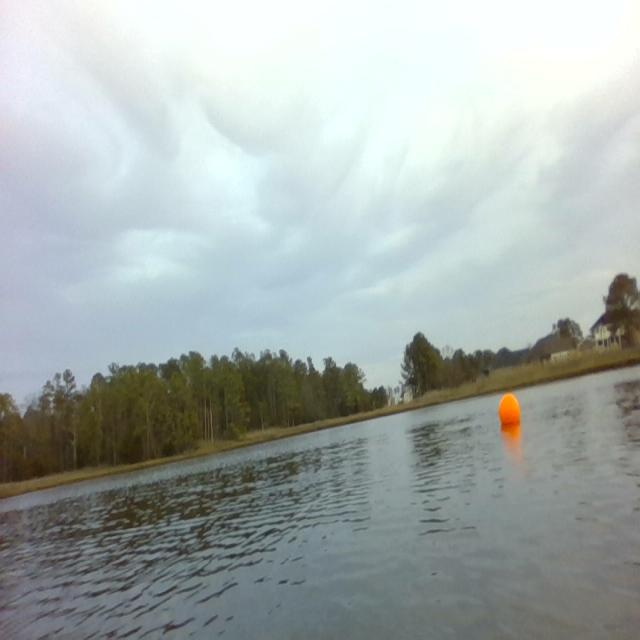Buoy: (498, 391, 520, 428)
